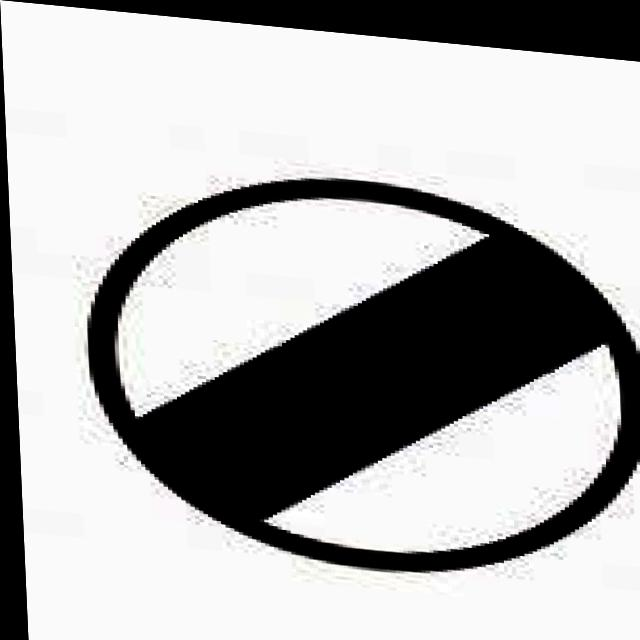RESTRICTION_ENDS: (78, 144, 640, 588)
